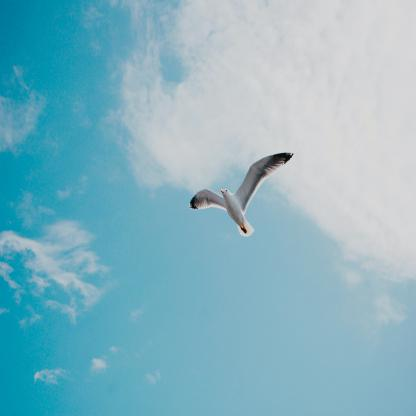bird: (189, 153, 294, 237)
